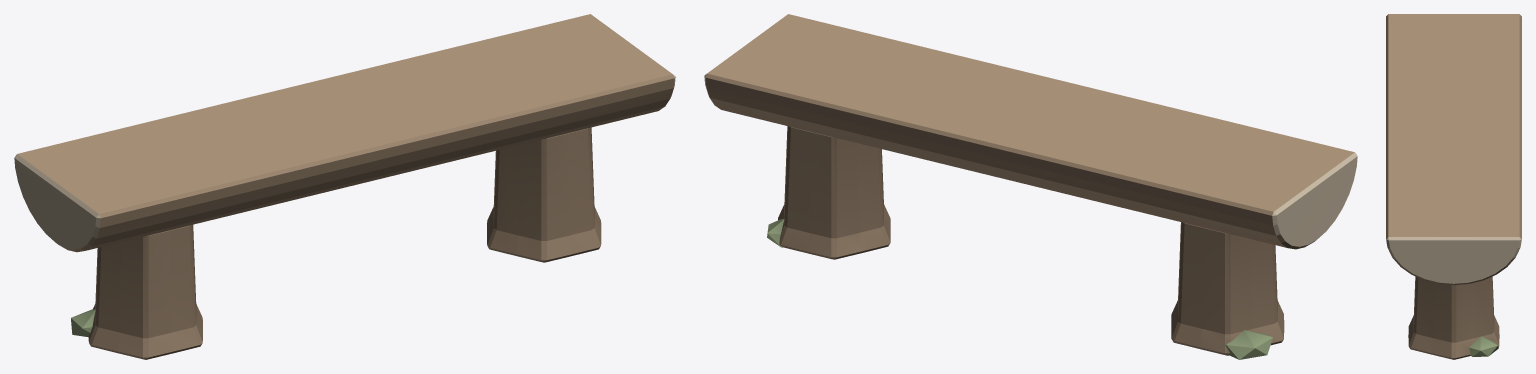
Rendered from log_bench.glb.
3 renders of one model, left to right at view 1: azimuth 30°, elevation 25°; view 2: azimuth 150°, elevation 25°; view 3: azimuth 270°, elevation 25°, orthographic. The views are drawn at different scales.
Visible parts, largest first — view 1: log_bench; view 2: log_bench; view 3: log_bench.
Boxes of the visible parts, bbox=[...] form: log_bench: bbox=[14, 14, 675, 359]; log_bench: bbox=[704, 14, 1357, 359]; log_bench: bbox=[1386, 14, 1521, 359].
Size of the model in its own units: 1.6 by 0.45 by 0.4077.
